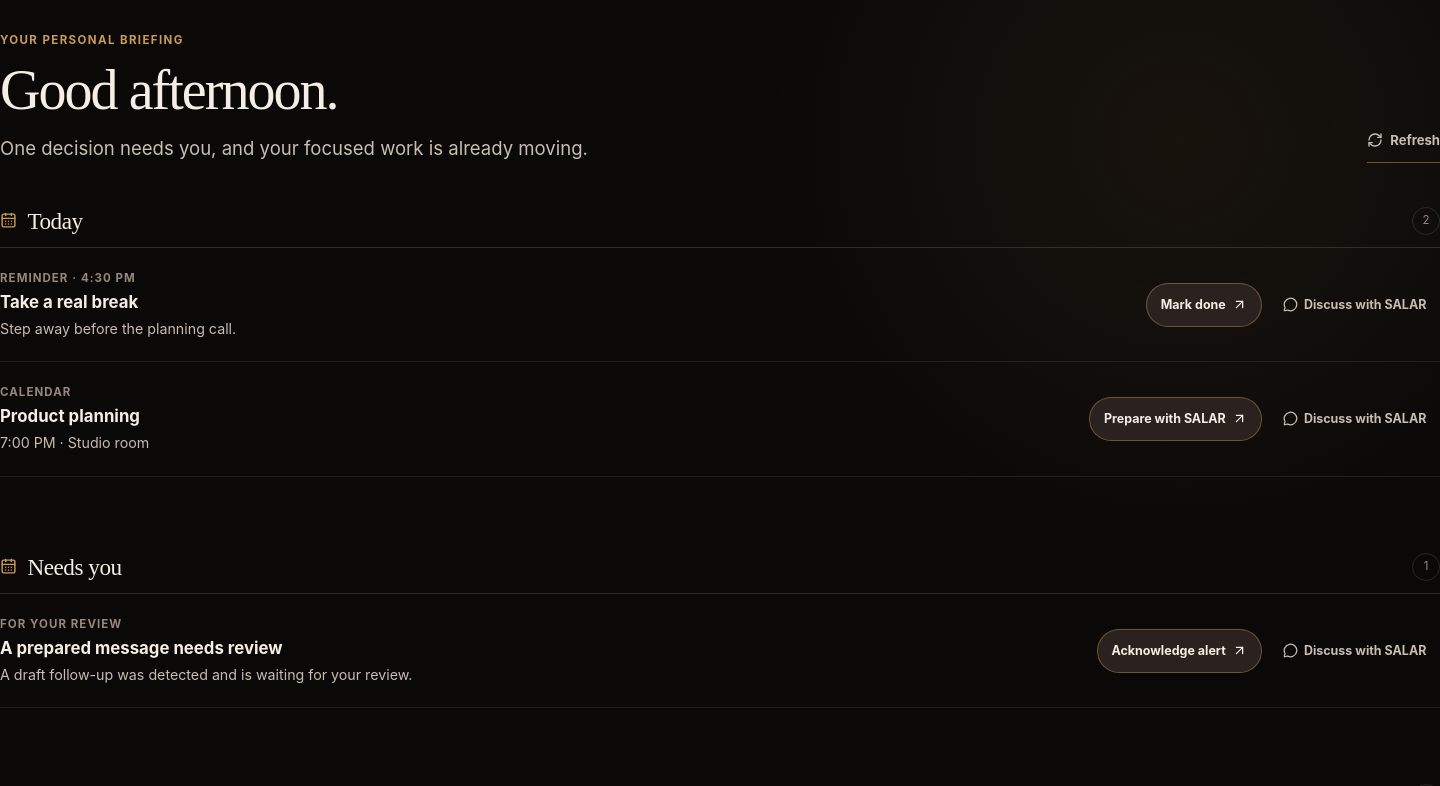
Test: Briefing › keeps failed confirmation open for an accessible retry
Click the button "Acknowledge alert". click: (1179, 651)
box: x1=1097 y1=629 x2=1262 y2=673
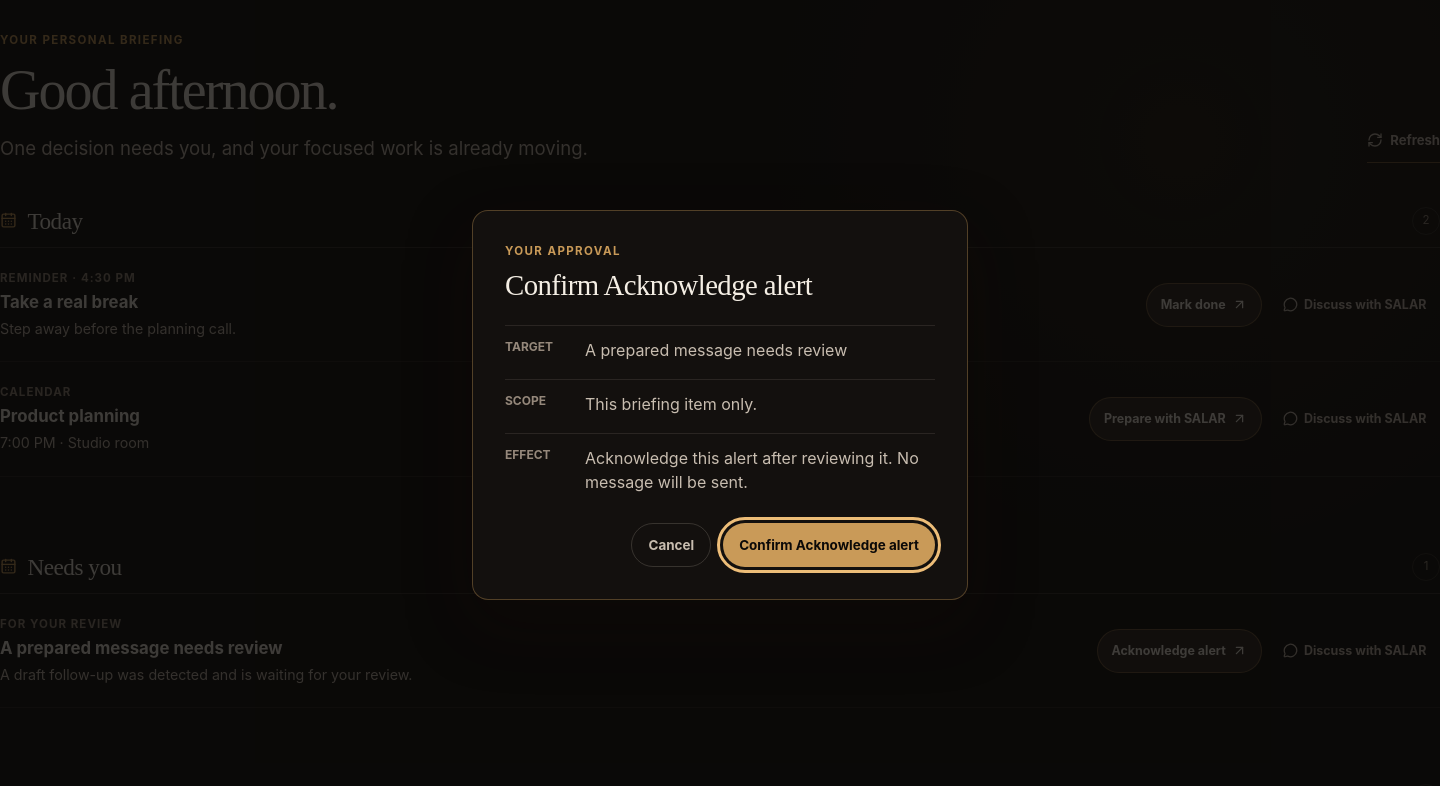
Click the button "Confirm Acknowledge alert". click: (829, 545)
box: x1=723 y1=523 x2=935 y2=567
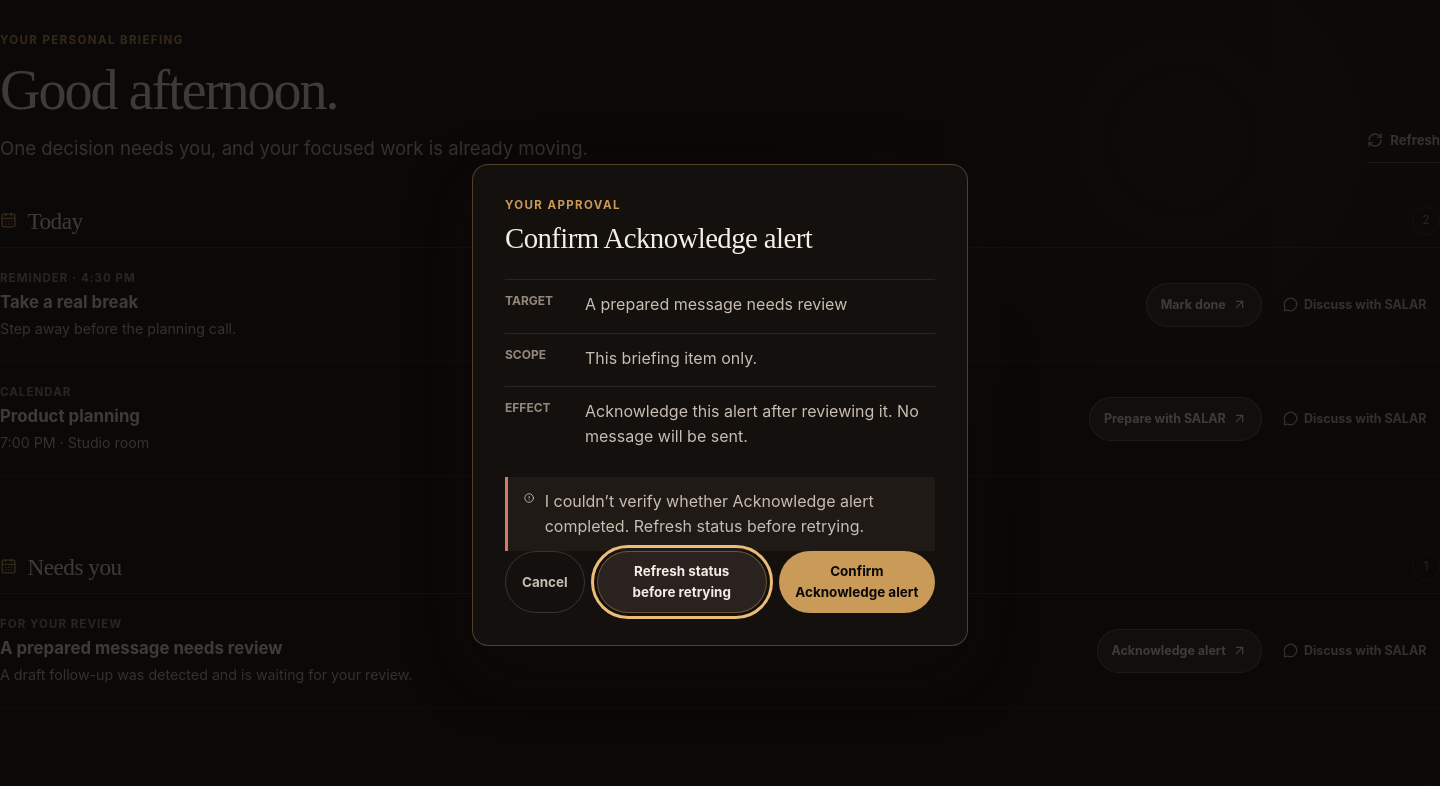
Expected: the dialog "Confirm Acknowledge alert" is shown, x1=472 y1=164 x2=968 y2=646
Expected: the message shows "I couldn’t verify whether Acknowledge alert completed. Refresh status before retrying.", x1=545 y1=491 x2=874 y2=536
Expected: the button "Confirm Acknowledge alert" is disabled, x1=779 y1=550 x2=935 y2=613
Click the button "Refresh status before retrying". click: (682, 582)
box: x1=597 y1=550 x2=767 y2=613
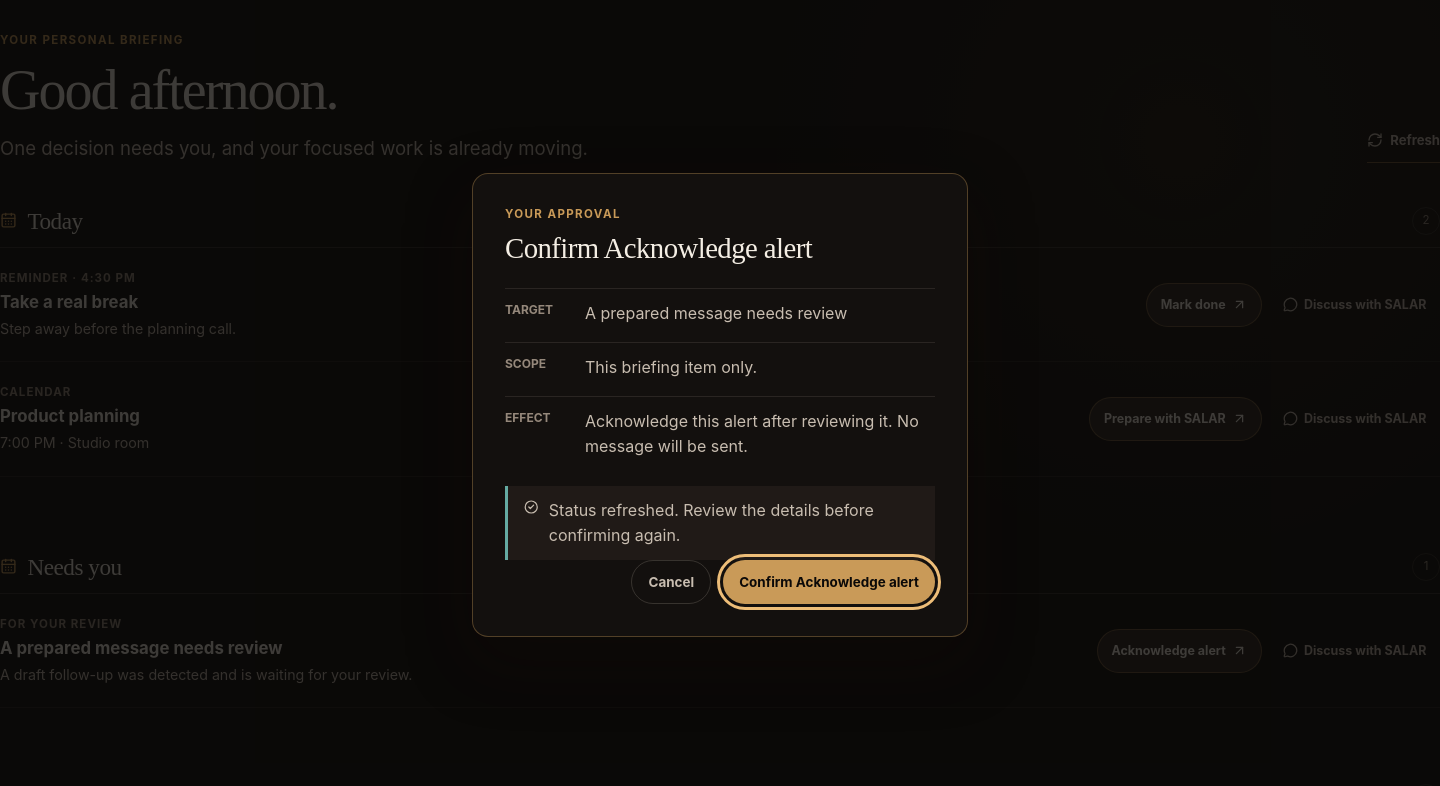
Expected: the button "Confirm Acknowledge alert" is enabled
Click the button "Confirm Acknowledge alert". click: (829, 582)
box: x1=723 y1=560 x2=935 y2=604
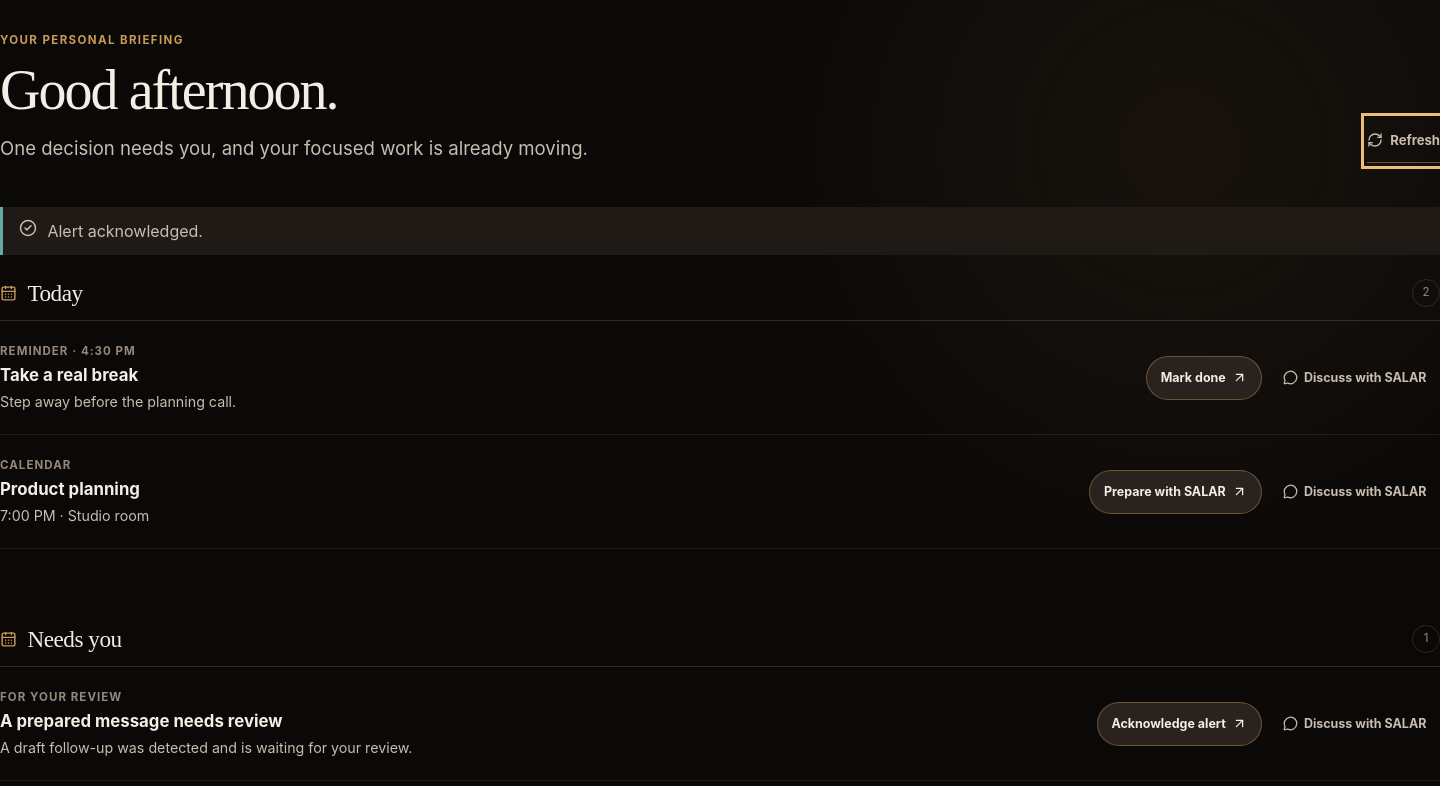
Expected: the dialog is gone
